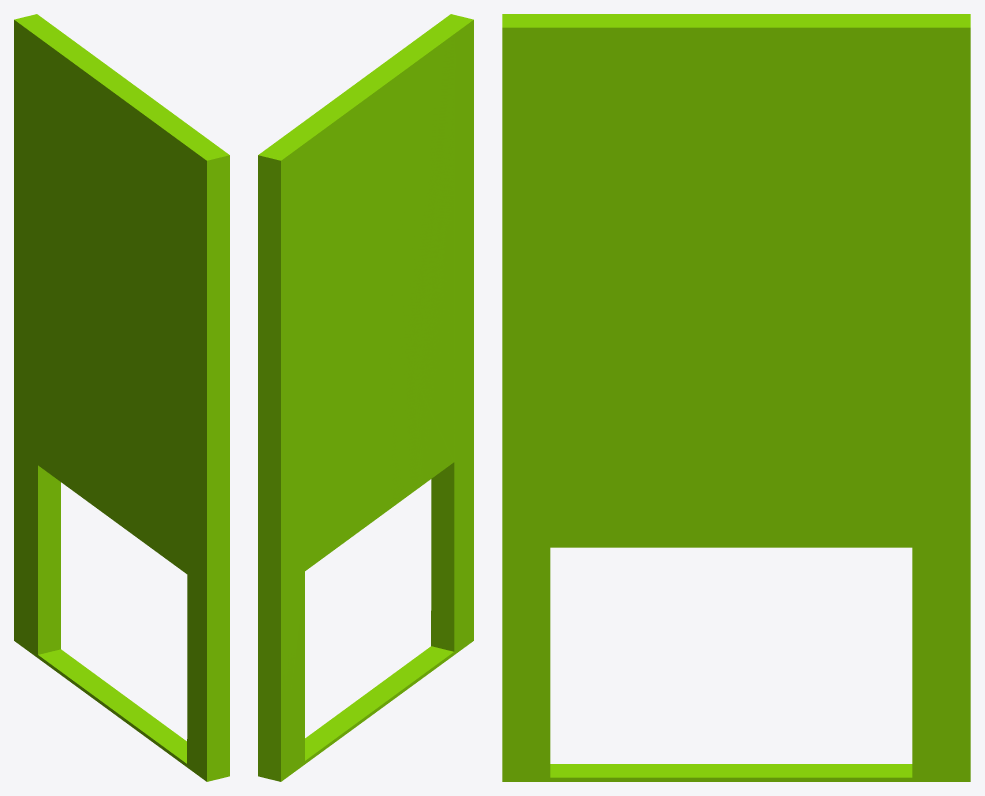
Rendered from Wall_02_Hearth_02.fbx.
3 views of the same model, side by side, from view 1: azimuth 30°, elevation 25°; view 2: azimuth 150°, elevation 25°; view 3: azimuth 270°, elevation 25° (orthographic). The views are drawn at different scales.
Visible parts, largest first — view 1: Wall_02_Hearth_02; view 2: Wall_02_Hearth_02; view 3: Wall_02_Hearth_02.
Part boxes in pixels (left/top/right/bottom): Wall_02_Hearth_02: left=14, top=14, right=229, bottom=781; Wall_02_Hearth_02: left=258, top=14, right=473, bottom=781; Wall_02_Hearth_02: left=502, top=14, right=970, bottom=781.
Size of the model in its own units: 22.19 by 572 by 322.
